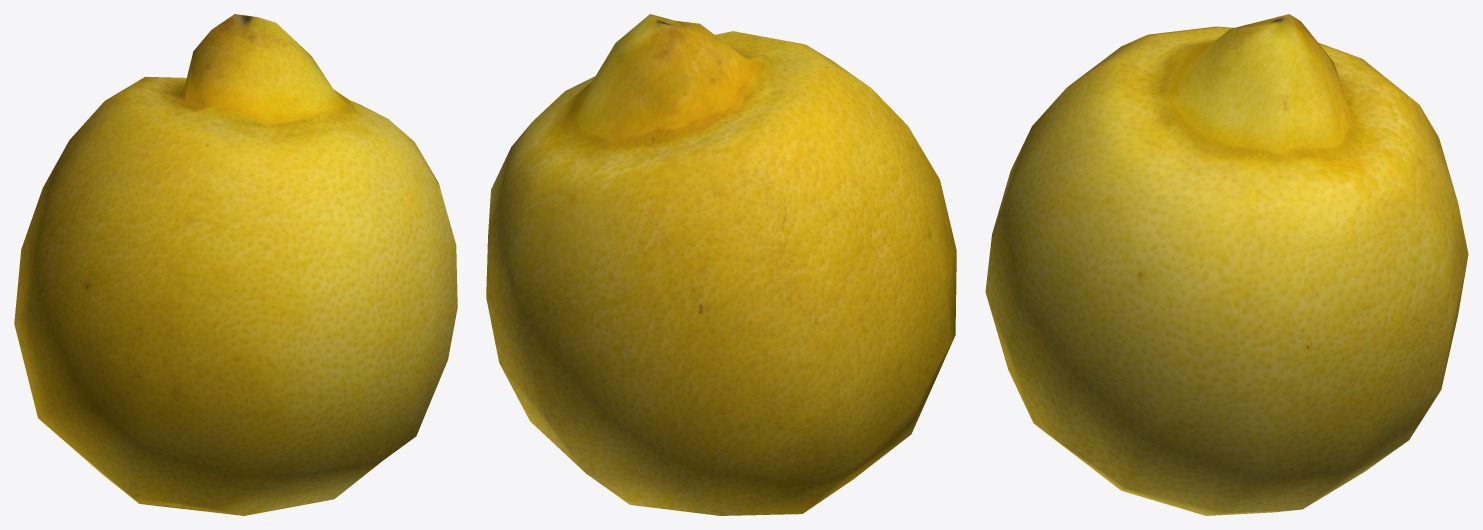
Rendered from A100_Lemon_low.fbx.
3 views of the same model, side by side, from view 1: azimuth 30°, elevation 25°; view 2: azimuth 150°, elevation 25°; view 3: azimuth 270°, elevation 25° (orthographic). The views are drawn at different scales.
Visible parts, largest first — view 1: A100_Lemon_low; view 2: A100_Lemon_low; view 3: A100_Lemon_low.
Boxes of the visible parts, x1,y1,x2,y2 form: A100_Lemon_low: (14, 14, 457, 515); A100_Lemon_low: (486, 14, 956, 515); A100_Lemon_low: (985, 14, 1468, 515).
Bounding box in the file's own units: 4.86 × 4.96 × 5.53.
Materials: 1 (1 with a texture image).
